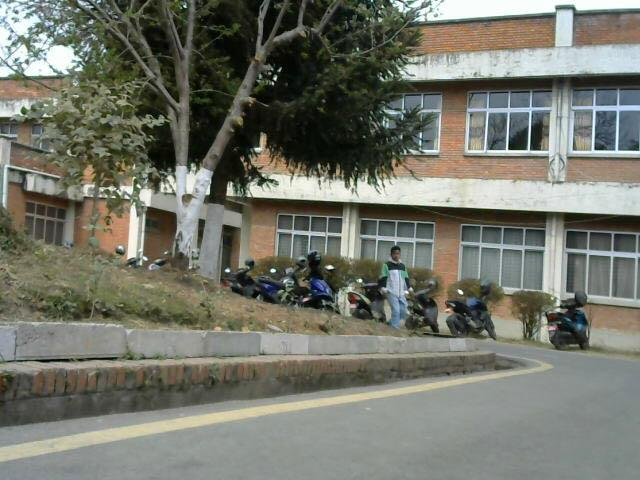Building: (415, 17, 640, 294)
Motorcycle: (239, 251, 371, 317), (543, 284, 609, 356), (448, 277, 516, 342)
Road: (0, 350, 640, 480)
Tree: (1, 0, 433, 279), (382, 235, 415, 330)
